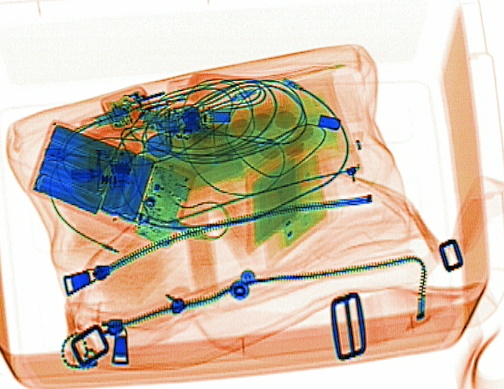powerbank: (25, 116, 196, 248)
